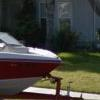Boat: (1, 25, 67, 94)
